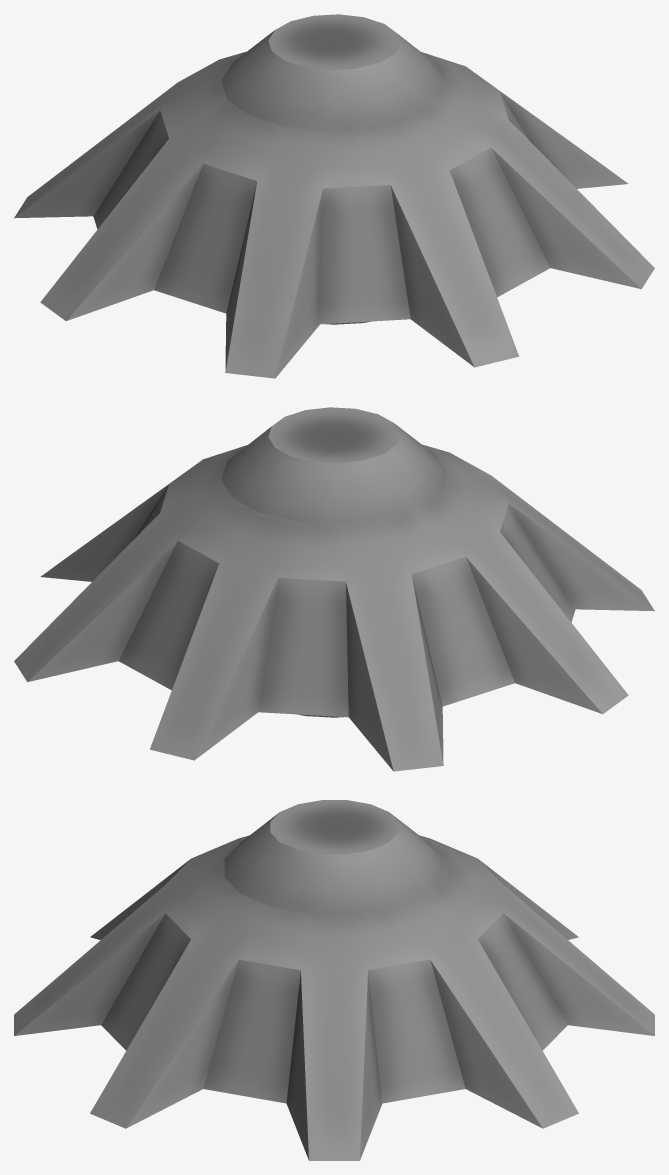
The model's file is Eridani_DockingMechanism_1_Guide.obj.
3 renders of one model, top to bottom at view 1: azimuth 30°, elevation 25°; view 2: azimuth 150°, elevation 25°; view 3: azimuth 270°, elevation 25°, orthographic.
Parts seen in each view (by area): view 1: Eridani_DockingMechanism_1_Guide; view 2: Eridani_DockingMechanism_1_Guide; view 3: Eridani_DockingMechanism_1_Guide.
Part boxes in pixels (x1,y1,x2,y2): Eridani_DockingMechanism_1_Guide: (14,14,654,378); Eridani_DockingMechanism_1_Guide: (14,407,654,771); Eridani_DockingMechanism_1_Guide: (14,800,654,1160).
Size of the model in its own units: 0.425 by 0.17 by 0.425.
